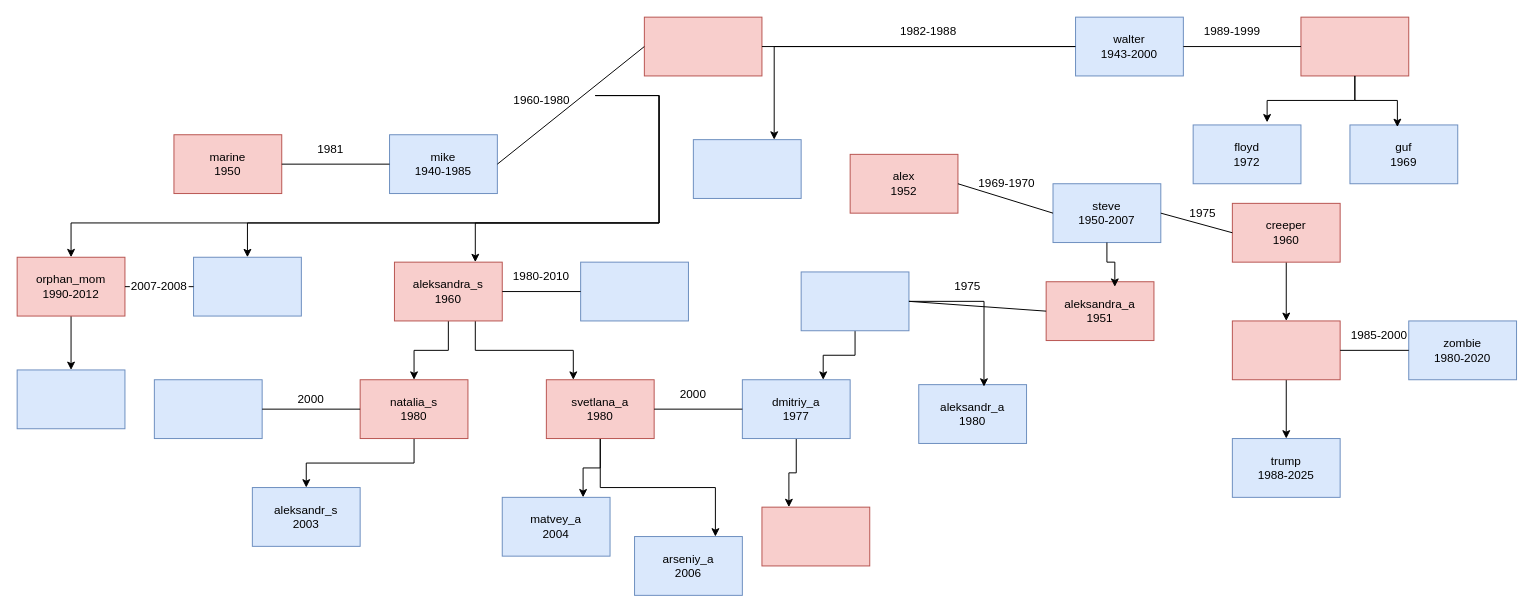
Some shapes in this 1534 by 613 pixel diagram are drawn without their labels. Each missing label, with the centre of its shape:
"evgeniy_s 1975" belongs at pixel 207 409.
"george 1960" belongs at pixel 746 168.
"jessy 1942-1988" belongs at pixel 702 46.
"orphan 2007" belongs at pixel 70 399.
"orphan_dad 1980-2008" belongs at pixel 247 286.
"sergey_s 1955-2005" belongs at pixel 634 291.
"sheep 1976" belongs at pixel 1285 350.
"sky 1945" belongs at pixel 1354 46.
"ulana_a 2009" belongs at pixel 815 536.
"vladimir_a 1950" belongs at pixel 854 301.
